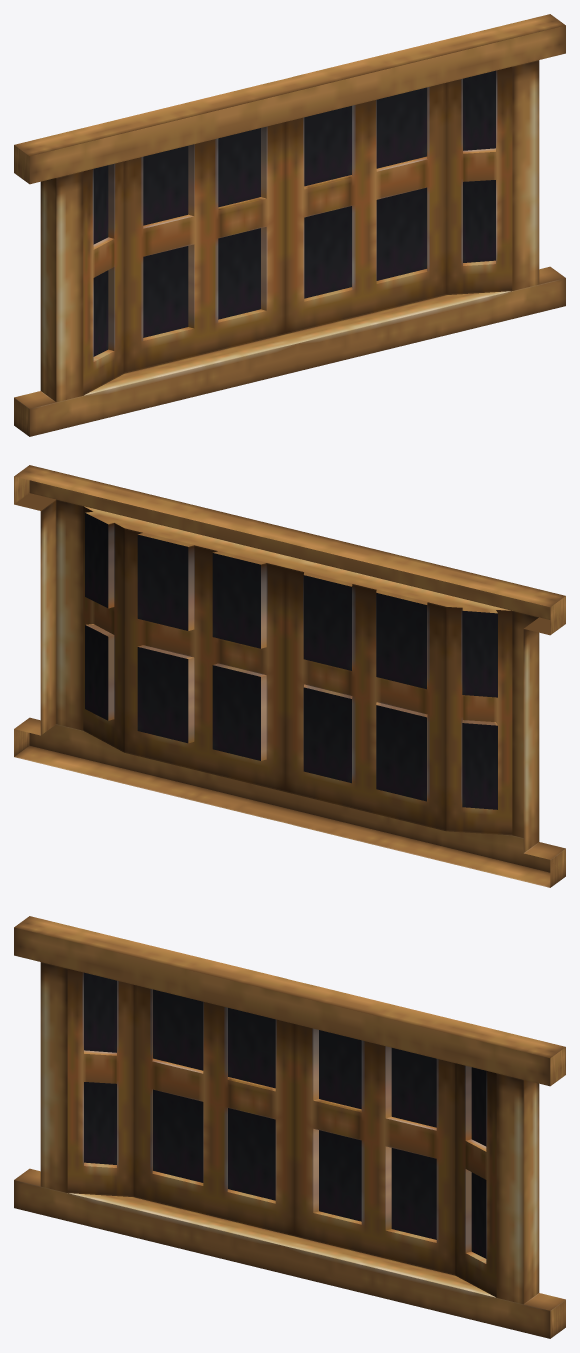
Rendered from Inside_Poly_Window_01_Night.obj.
The picture shows the model from 3 angles, top to bottom: view 1: azimuth 30°, elevation 25°; view 2: azimuth 150°, elevation 25°; view 3: azimuth 330°, elevation 25°; orthographic projection.
Parts seen in each view (by area): view 1: Cube_Cube.003; view 2: Cube_Cube.003; view 3: Cube_Cube.003.
Part boxes in pixels (box(x1,y1,x2,y2)): Cube_Cube.003: box(14, 14, 565, 436); Cube_Cube.003: box(14, 465, 565, 887); Cube_Cube.003: box(14, 916, 565, 1338).
Bounding box in the file's own units: 2 × 1 × 0.101.
Materials: 1 (1 with a texture image).
